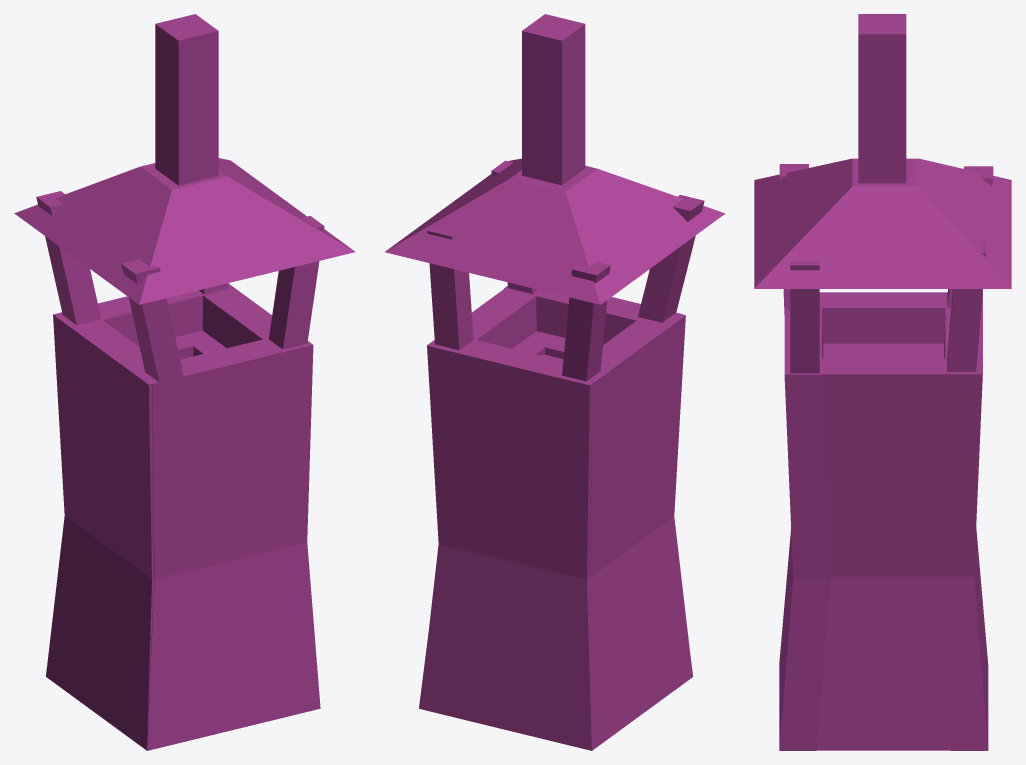
The model's file is SM_Bld_Tower_01_Collision.fbx.
3 renders of one model, left to right at view 1: azimuth 30°, elevation 25°; view 2: azimuth 150°, elevation 25°; view 3: azimuth 270°, elevation 25°, orthographic. The views are drawn at different scales.
Parts seen in each view (by area): view 1: SM_Bld_Tower_01_Collision; view 2: SM_Bld_Tower_01_Collision; view 3: SM_Bld_Tower_01_Collision.
Boxes of the visible parts, x1,y1,x2,y2 form: SM_Bld_Tower_01_Collision: [14, 14, 355, 750]; SM_Bld_Tower_01_Collision: [384, 14, 725, 750]; SM_Bld_Tower_01_Collision: [754, 14, 1011, 750].
Bounding box in the file's own units: 387 × 1136 × 387.
